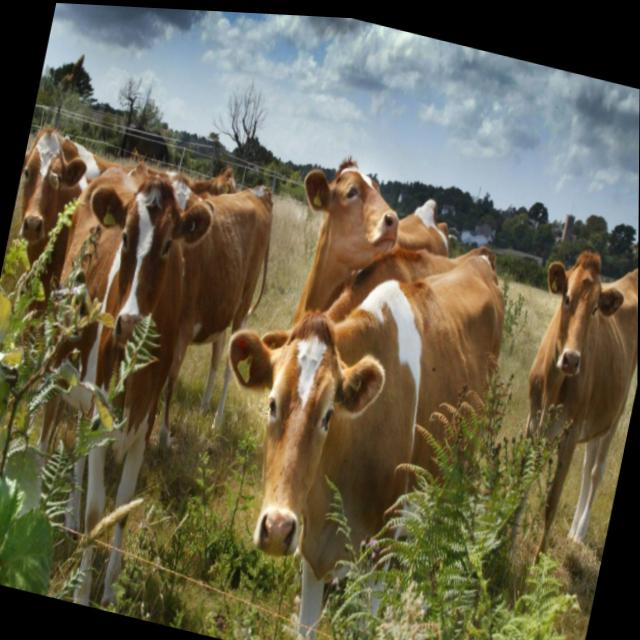cowFace: (187, 287, 396, 577), (100, 164, 221, 371), (527, 235, 632, 383), (288, 144, 411, 265)
